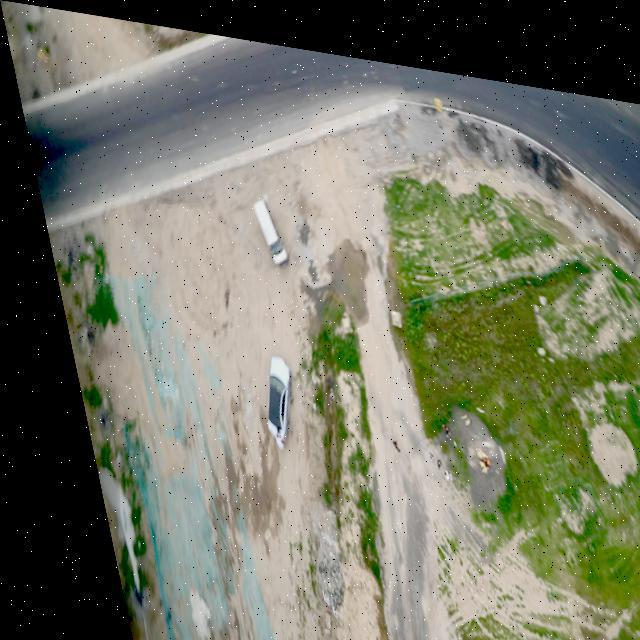Fire: (451, 424, 483, 464)
